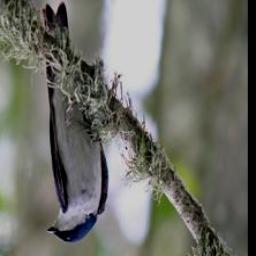Swallow: (38, 0, 110, 247)
